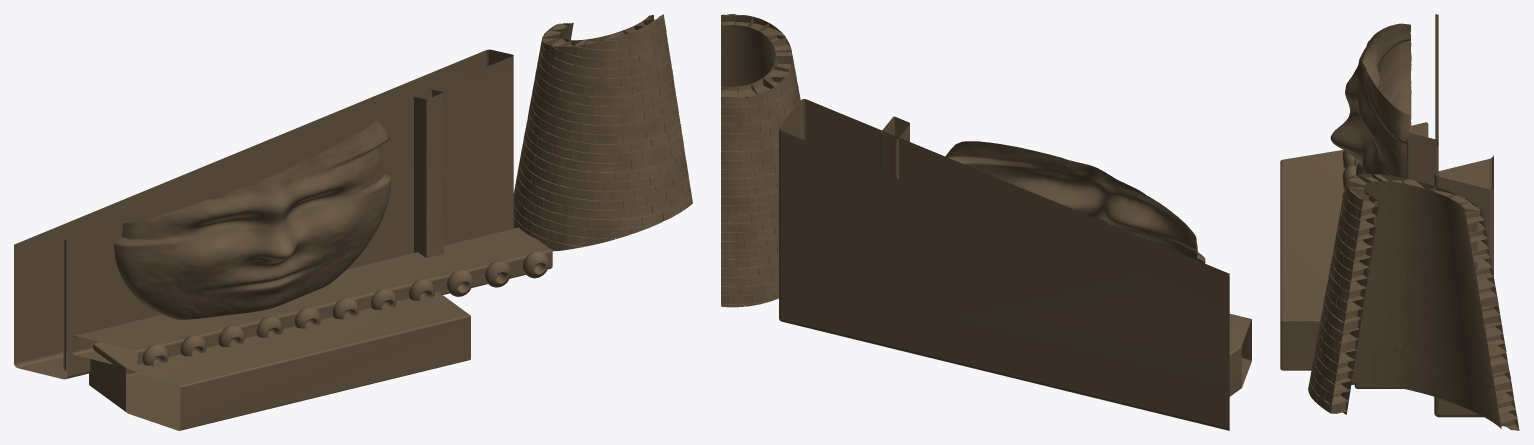
Rendered from temple04.glb.
3 views of the same model, side by side, from view 1: azimuth 30°, elevation 25°; view 2: azimuth 150°, elevation 25°; view 3: azimuth 270°, elevation 25° (orthographic). The views are drawn at different scales.
Parts seen in each view (by area): view 1: TEMPLE04_original_v5; view 2: TEMPLE04_original_v5; view 3: TEMPLE04_original_v5.
Part boxes in pixels (<box>): TEMPLE04_original_v5: <box>14,14,692,430</box>; TEMPLE04_original_v5: <box>721,14,1251,430</box>; TEMPLE04_original_v5: <box>1280,14,1519,430</box>.
Bounding box in the file's own units: 9.88 × 4.11 × 2.99.
